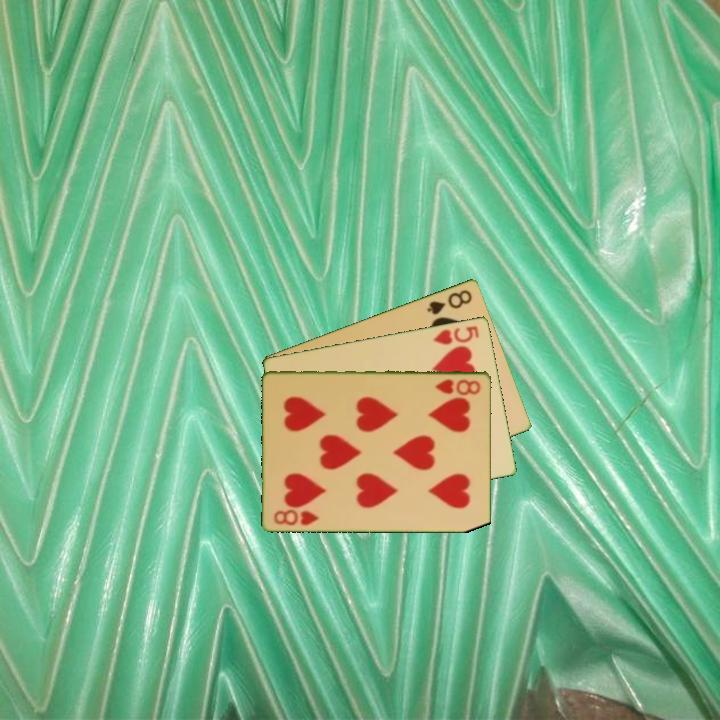5h: (430, 322, 482, 347)
8h: (271, 506, 322, 528), (432, 375, 484, 396)
8s: (423, 286, 475, 317)
